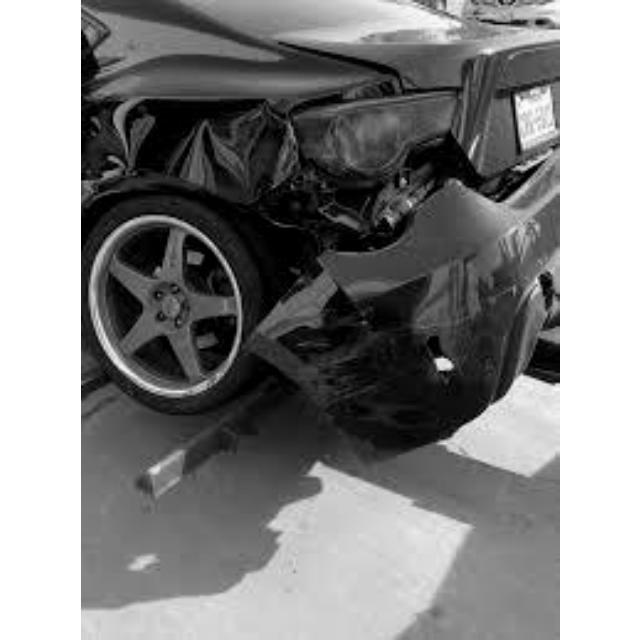Taillight-Damage: (296, 50, 491, 198)
quaterpanel-dent: (108, 50, 285, 220)
rear-bumper-dent: (293, 195, 557, 417)
